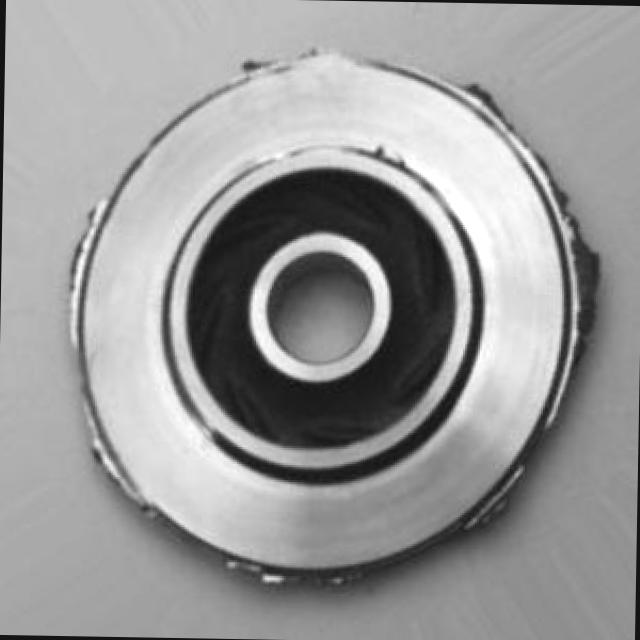Defect: (569, 225, 596, 306), (466, 74, 499, 119)
